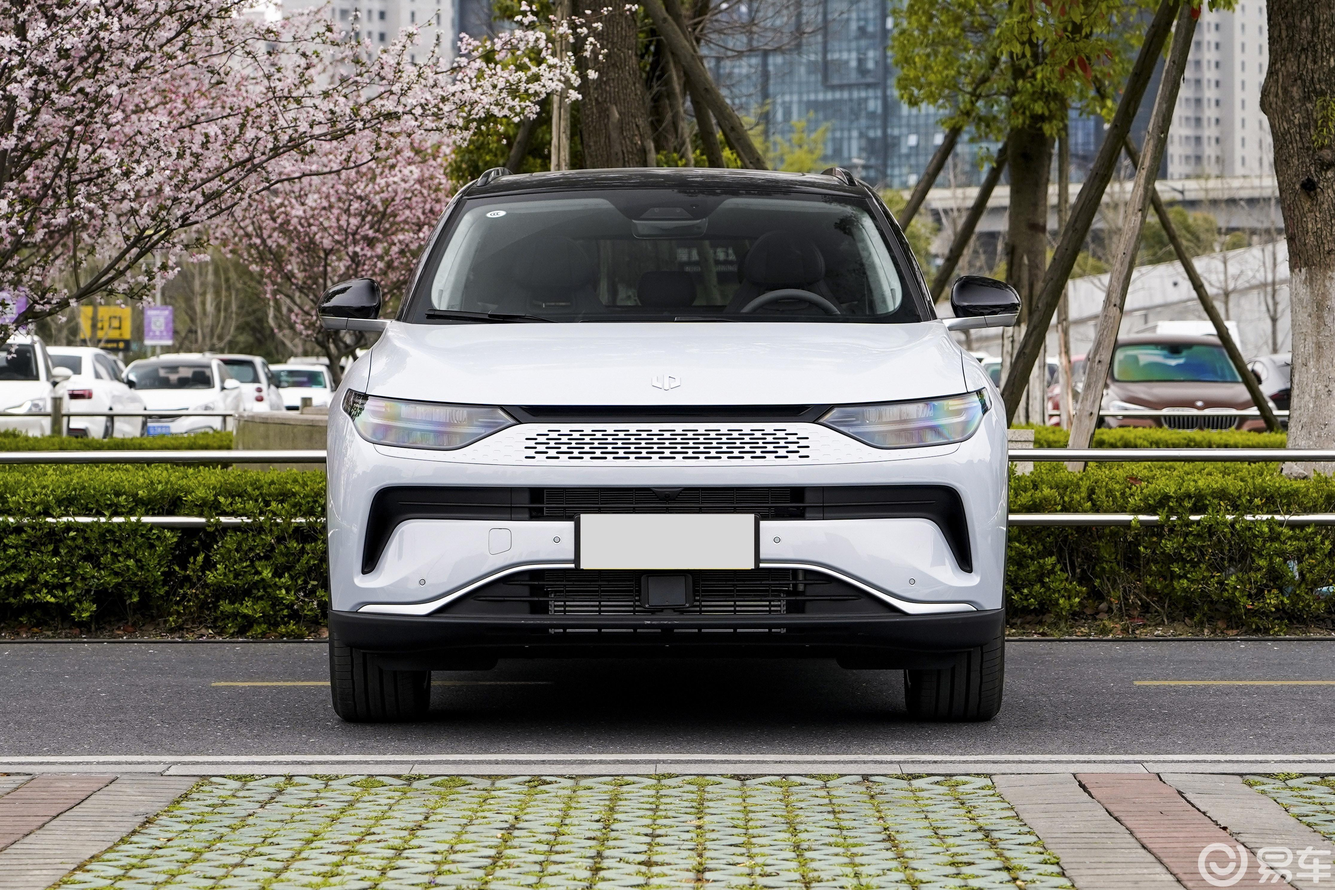LEAPMOTOR: (651, 372, 681, 390)
